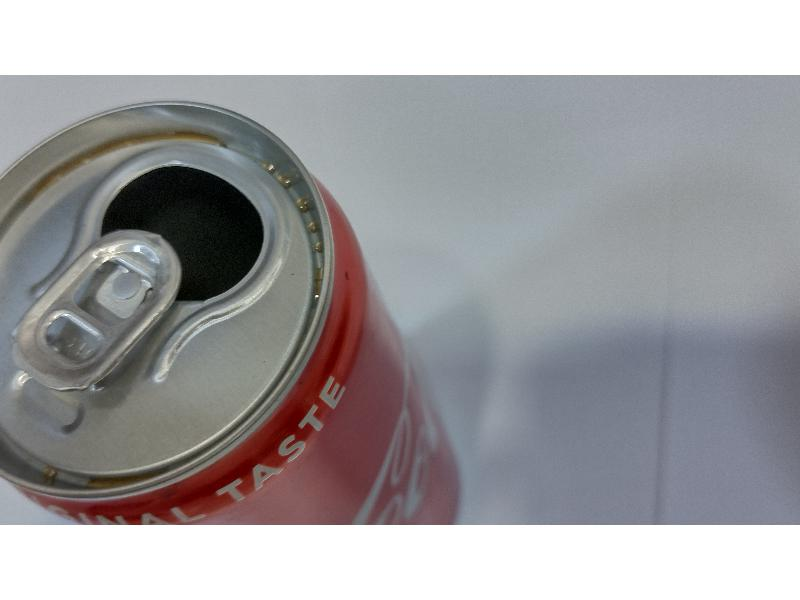can: (0, 95, 469, 526)
